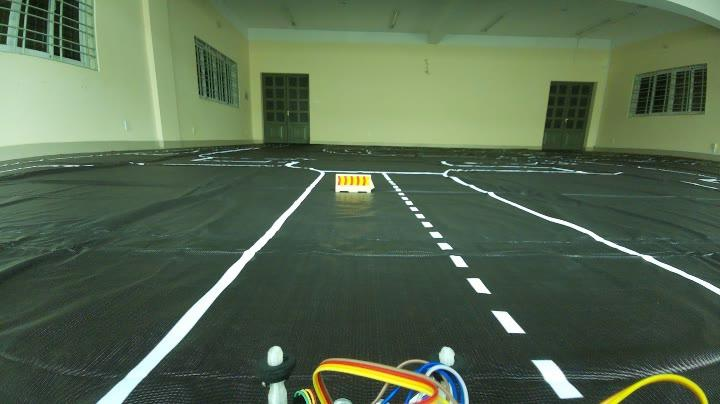roadblock: (327, 166, 381, 200)
